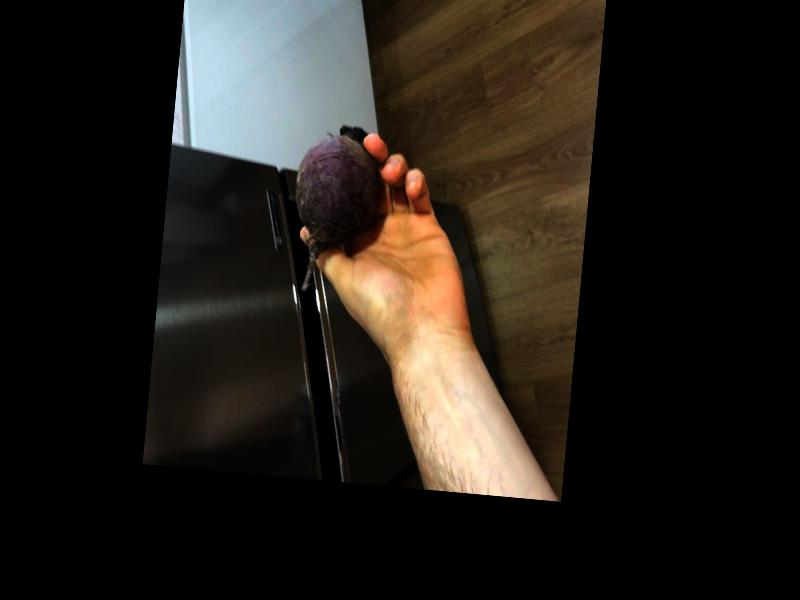Beet: (288, 120, 382, 295)
